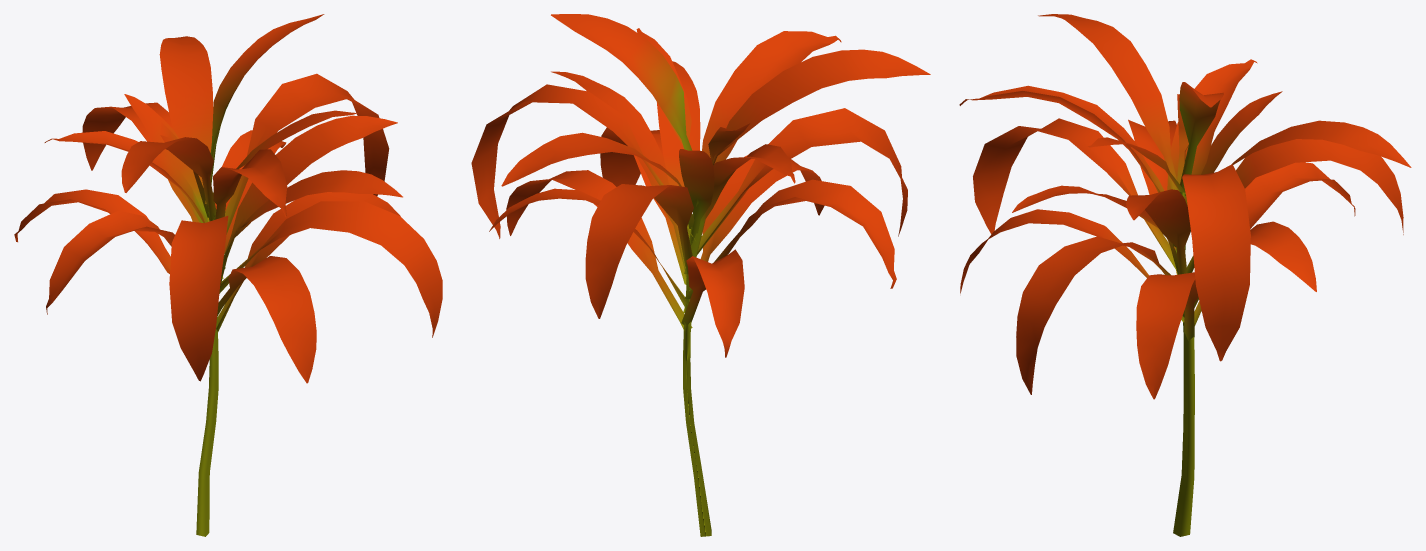
File: Pink Cordyline_LOD1_Var5_sfhhN.fbx
The picture shows the model from 3 angles, left to right: view 1: azimuth 30°, elevation 25°; view 2: azimuth 150°, elevation 25°; view 3: azimuth 270°, elevation 25°; orthographic projection. The views are drawn at different scales.
Visible parts, largest first — view 1: _f858_Var5_LOD1; view 2: _f858_Var5_LOD1; view 3: _f858_Var5_LOD1.
Boxes of the visible parts, left/top/right/bottom form: _f858_Var5_LOD1: left=14, top=14, right=442, bottom=536; _f858_Var5_LOD1: left=471, top=14, right=930, bottom=536; _f858_Var5_LOD1: left=959, top=14, right=1411, bottom=536.
Bounding box in the file's own units: 86.39 × 106 × 87.73.
